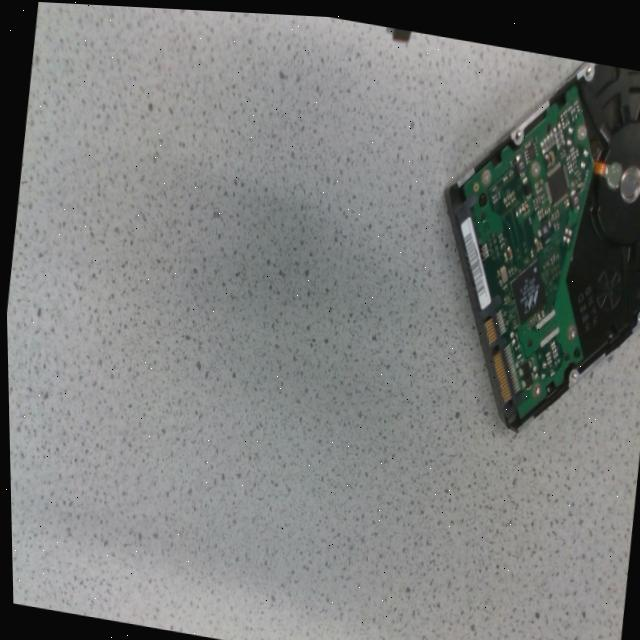case: (443, 55, 640, 427)
pcb: (460, 79, 594, 414)
screw: (575, 116, 585, 134), (529, 153, 539, 171), (565, 316, 574, 334), (480, 162, 489, 180), (530, 376, 539, 391)
